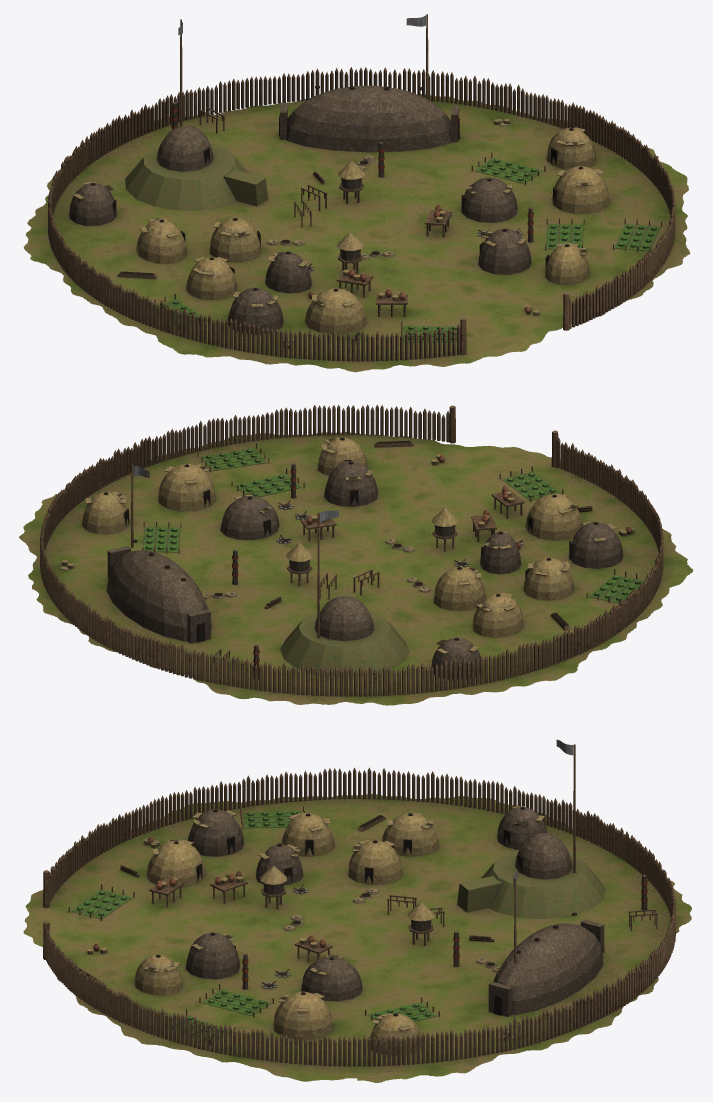
File: stone-town-medium-a-americas.glb
The picture shows the model from 3 angles, top to bottom: view 1: azimuth 30°, elevation 25°; view 2: azimuth 150°, elevation 25°; view 3: azimuth 270°, elevation 25°; orthographic projection. The views are drawn at different scales.
Parts seen in each view (by area): view 1: LOD0; view 2: LOD0; view 3: LOD0.
Part boxes in pixels (x1,y1,x2,y2): LOD0: (23,14,690,372); LOD0: (19,404,692,705); LOD0: (23,739,691,1082).
Size of what is drawn, in the model's own units: 5.94 by 1.45 by 5.84.
Materials: 3 (3 with a texture image).
